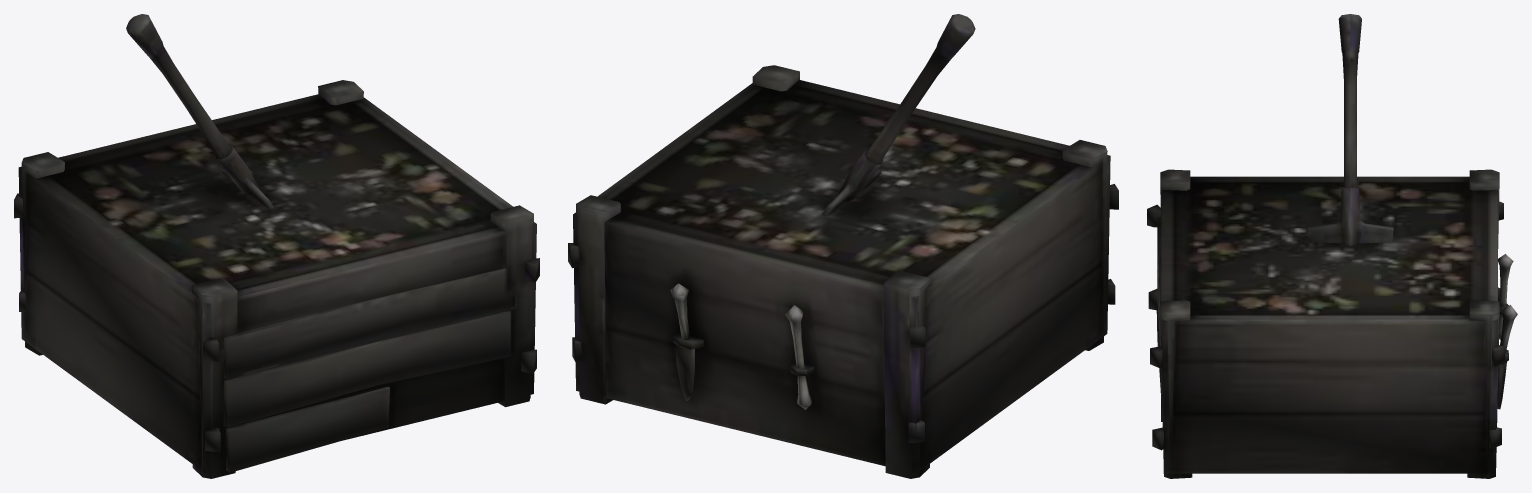
The model's file is prop_node_compost_heap.glb.
3 renders of one model, left to right at view 1: azimuth 30°, elevation 25°; view 2: azimuth 150°, elevation 25°; view 3: azimuth 270°, elevation 25°, orthographic. The views are drawn at different scales.
Parts seen in each view (by area): view 1: tripo_node_df61f8a4-6d72-46c8-99c8-26d8d418f082; view 2: tripo_node_df61f8a4-6d72-46c8-99c8-26d8d418f082; view 3: tripo_node_df61f8a4-6d72-46c8-99c8-26d8d418f082.
Part boxes in pixels (x1=…): tripo_node_df61f8a4-6d72-46c8-99c8-26d8d418f082: x1=14, y1=14, x2=539, y2=478; tripo_node_df61f8a4-6d72-46c8-99c8-26d8d418f082: x1=568, y1=14, x2=1118, y2=478; tripo_node_df61f8a4-6d72-46c8-99c8-26d8d418f082: x1=1147, y1=14, x2=1517, y2=478.
Size of the model in its own units: 0.9511 by 0.998 by 0.9902.
1 material, 1 textured.
